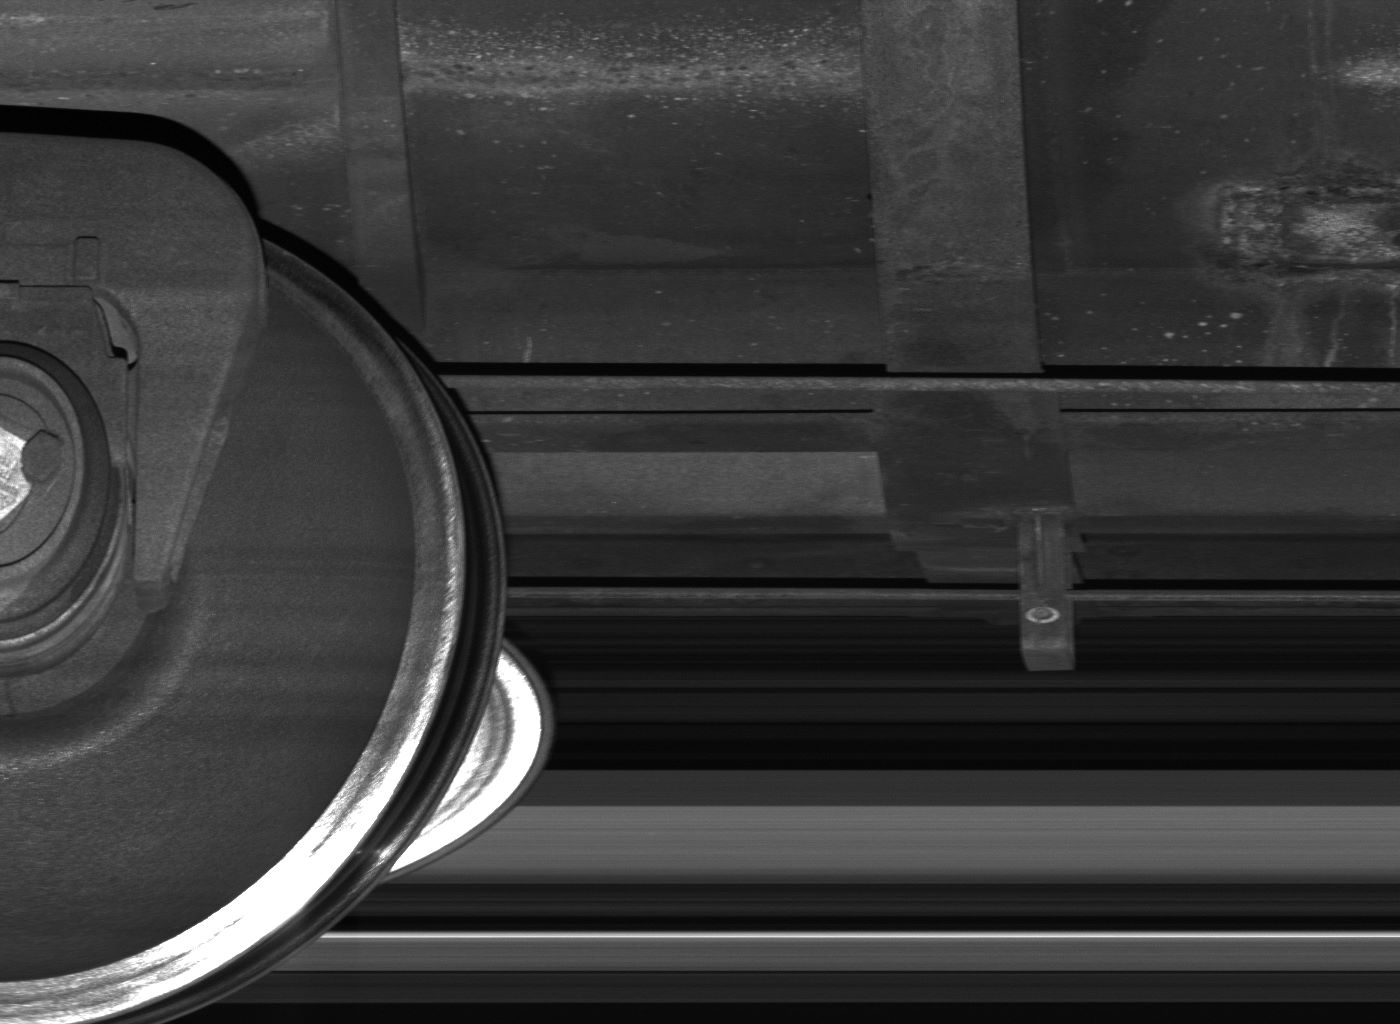normal: (1017, 516, 1078, 672)
